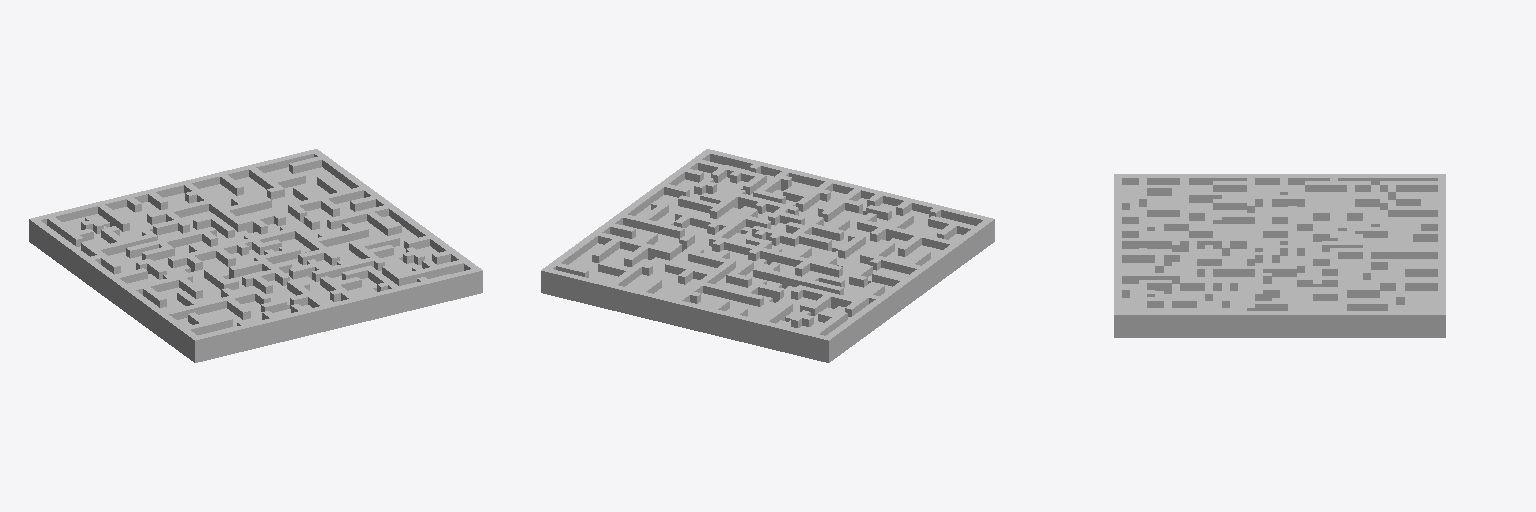
Rendered from maze_delikli.obj.
3 renders of one model, left to right at view 1: azimuth 30°, elevation 25°; view 2: azimuth 150°, elevation 25°; view 3: azimuth 270°, elevation 25°, orthographic.
Parts seen in each view (by area): view 1: object 1; view 2: object 1; view 3: object 1.
Part boxes in pixels (x1,y1,x2,y2): object 1: (29,149,482,362); object 1: (541,149,994,362); object 1: (1114,174,1445,337).
Size of the model in its own units: 4 by 0.3 by 4.